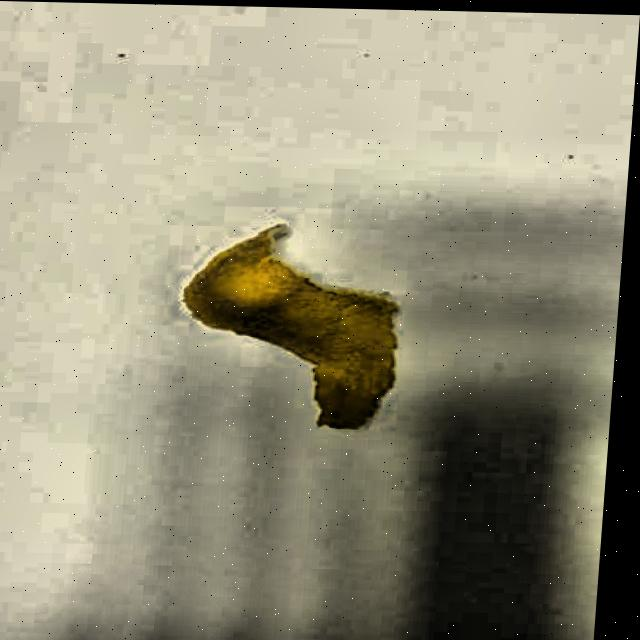biodegradable: (100, 189, 449, 450)
